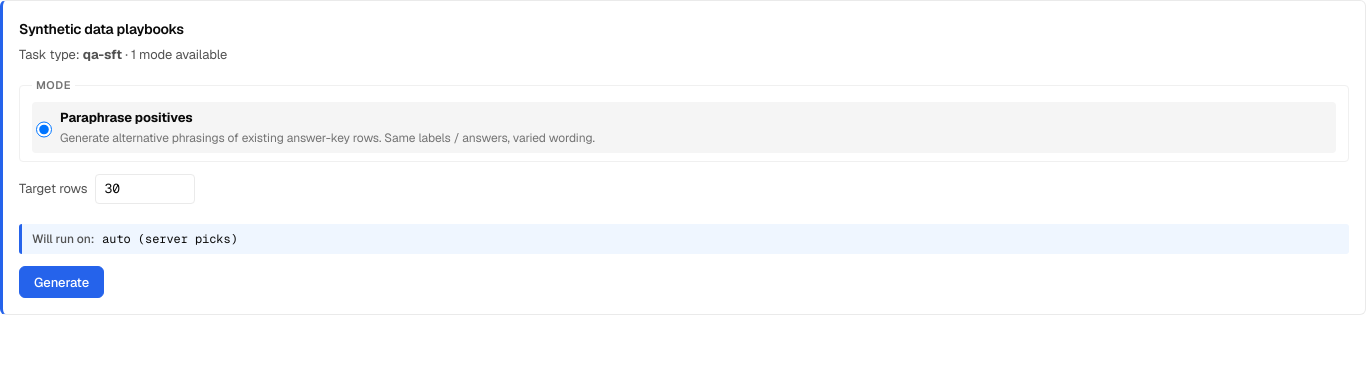
PlaybookPickerPanel › runs a playbook via the async-job endpoint and shows a queued confirmation
Click the button with test id "playbook-picker-run" at (62,282), box [19,266,104,298]
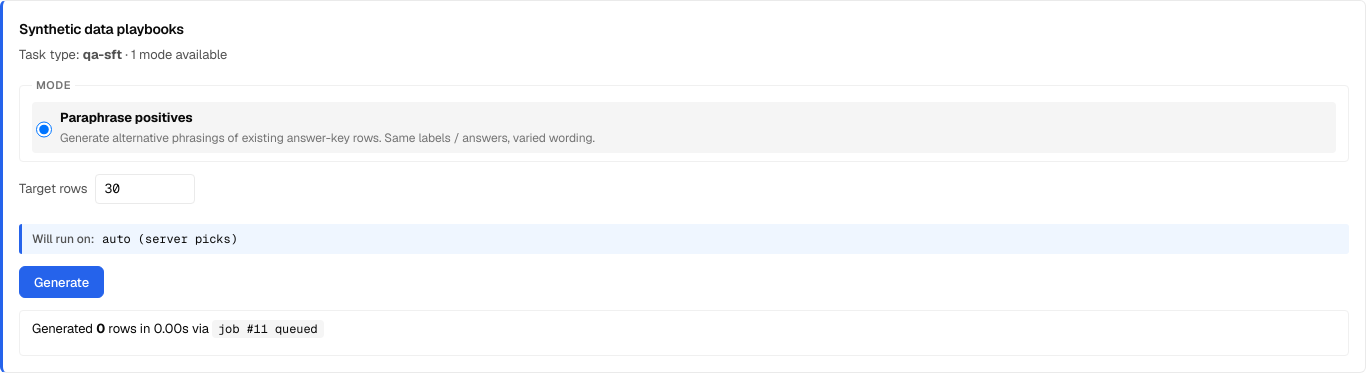
Result: the element with test id "playbook-picker-result" is shown at [19,310,1349,356]
Result: the text "job #11 queued" is shown at [212,320,324,338]
